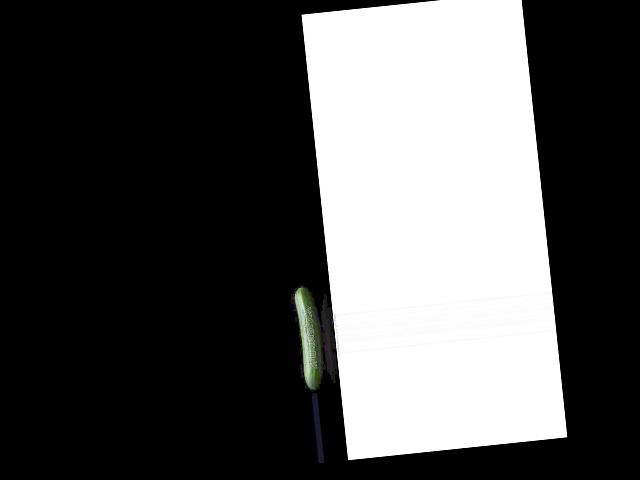cucumber: (294, 285, 320, 389)
